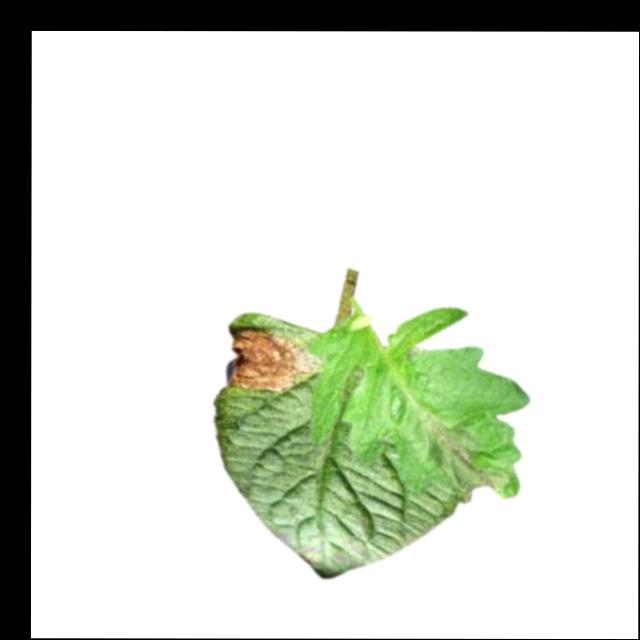Late_blight: (224, 325, 316, 393), (427, 422, 508, 496)
